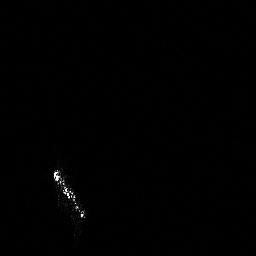ship: (52, 166, 89, 227)
